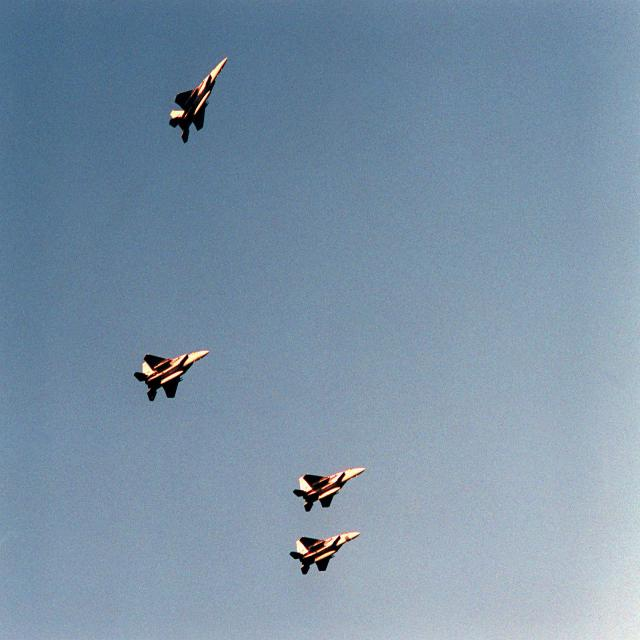MIL_Plane: (168, 46, 228, 154), (134, 350, 210, 402), (289, 530, 362, 575), (293, 467, 365, 512)
